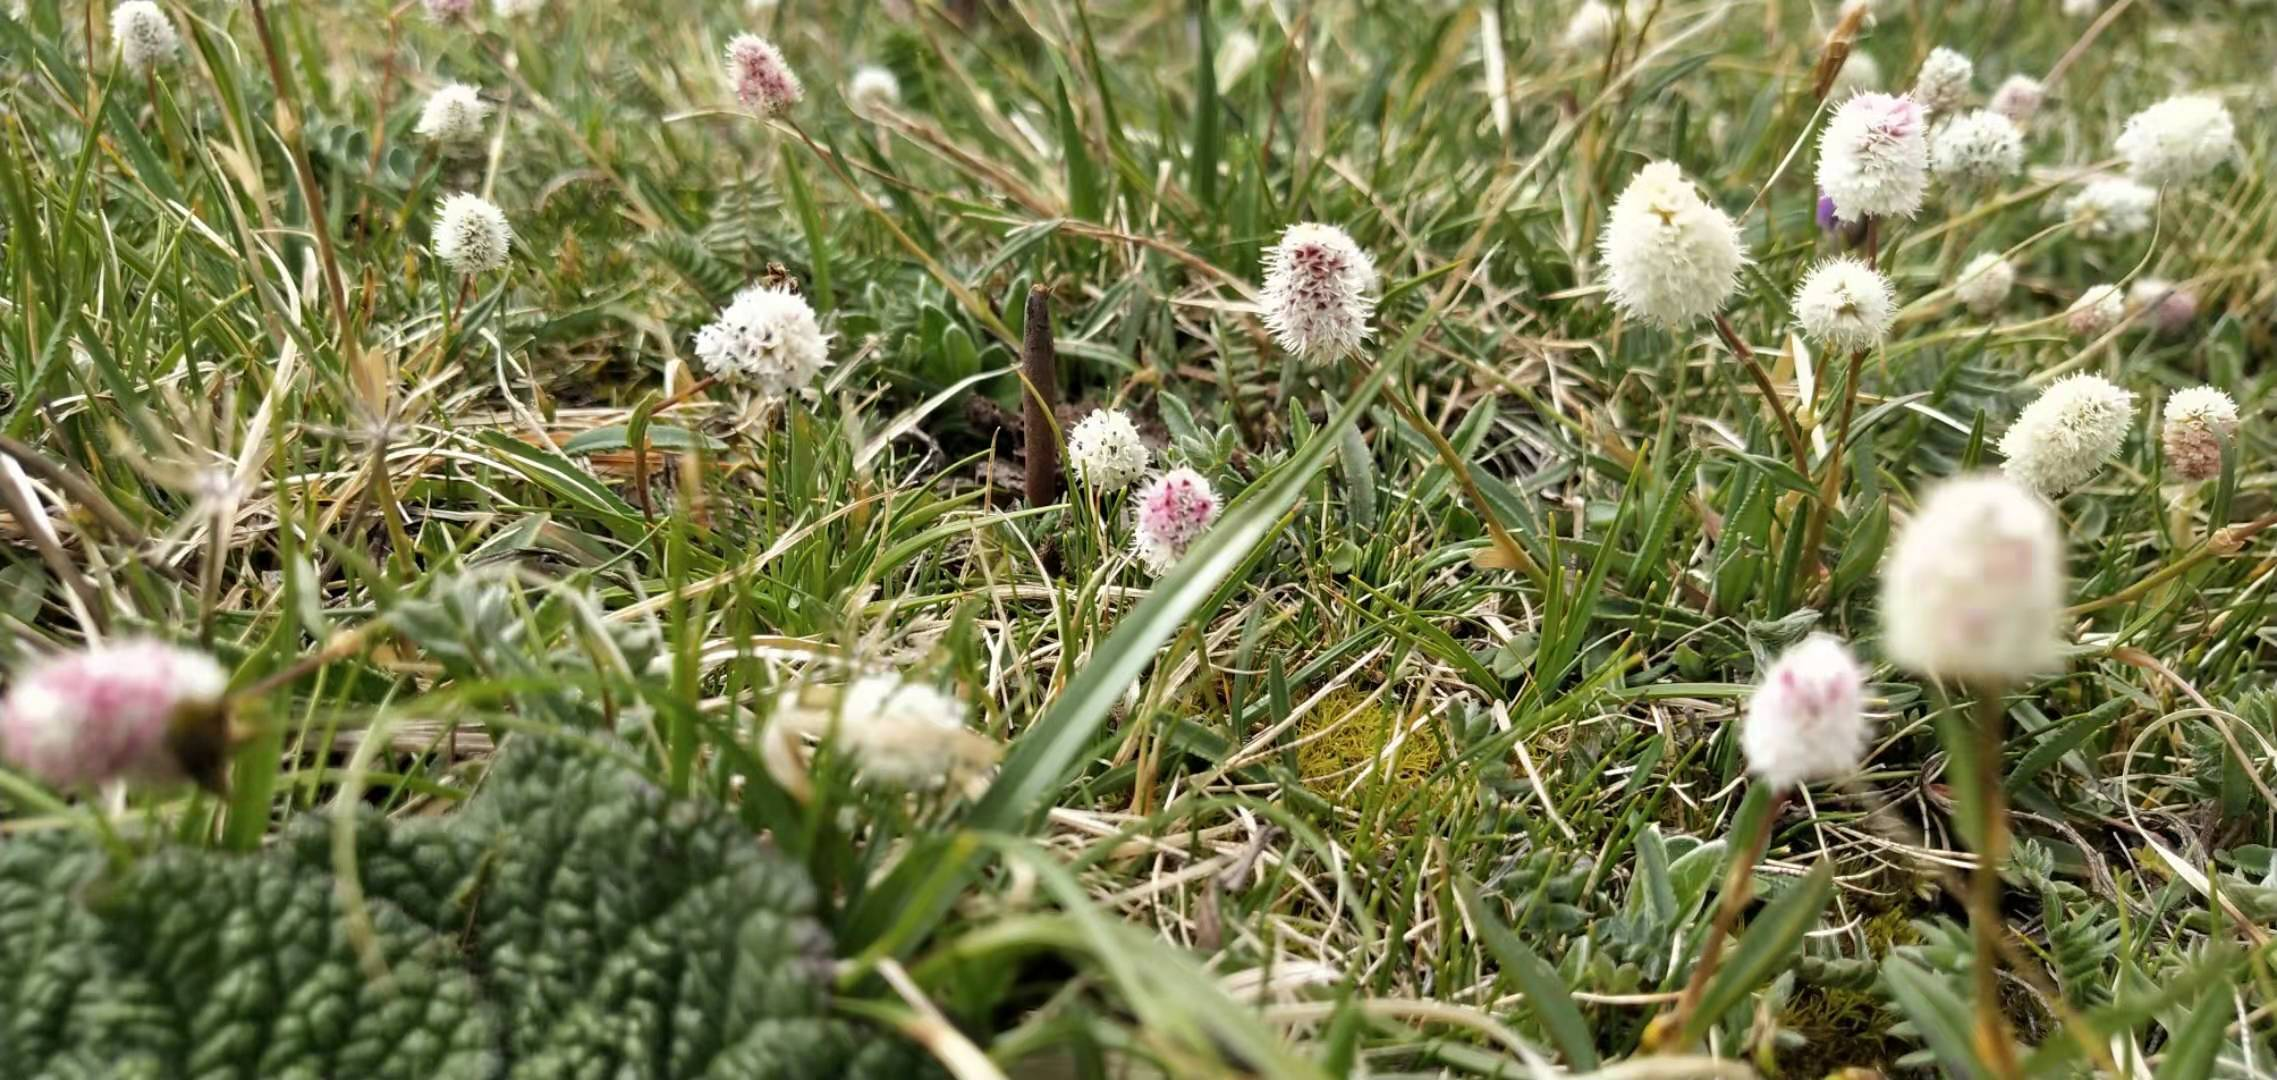cpf: (1006, 285, 1056, 525)
